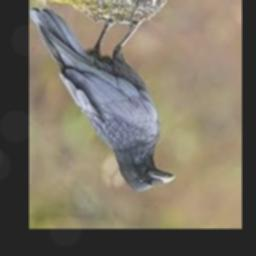Crow: (29, 7, 175, 193)
